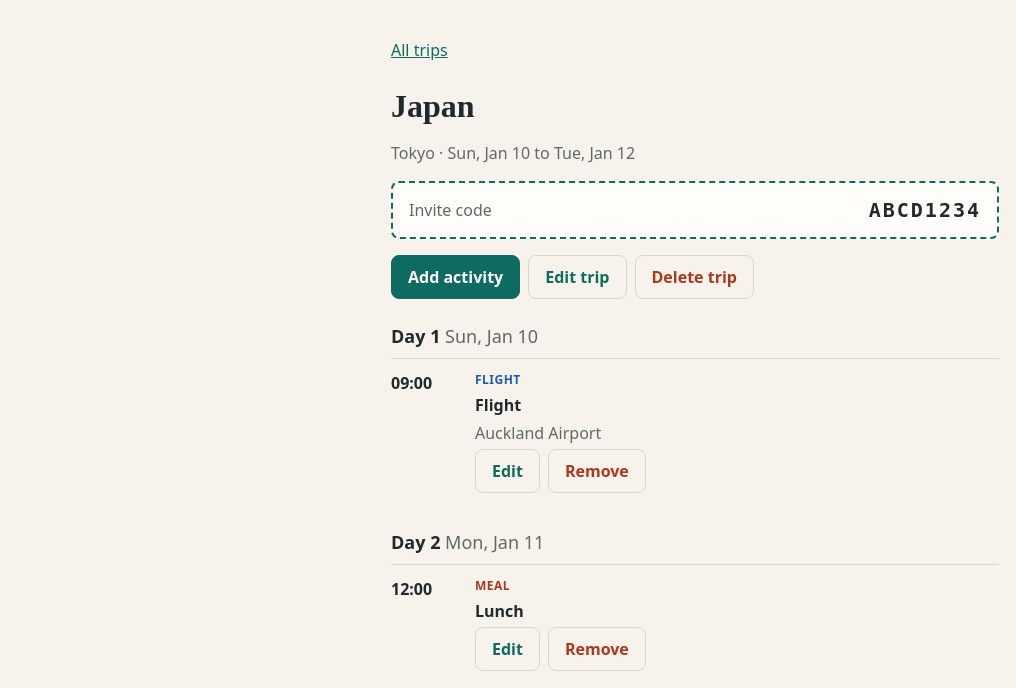
Test case: organiser › deletes the whole trip and goes back to the trips list
The width and height of the screenshot is (1016, 688).
Expected: the heading "Flight" is shown, [475,393,521,417]
Click the button "Delete trip" at (694, 277), box [634,255,754,299]
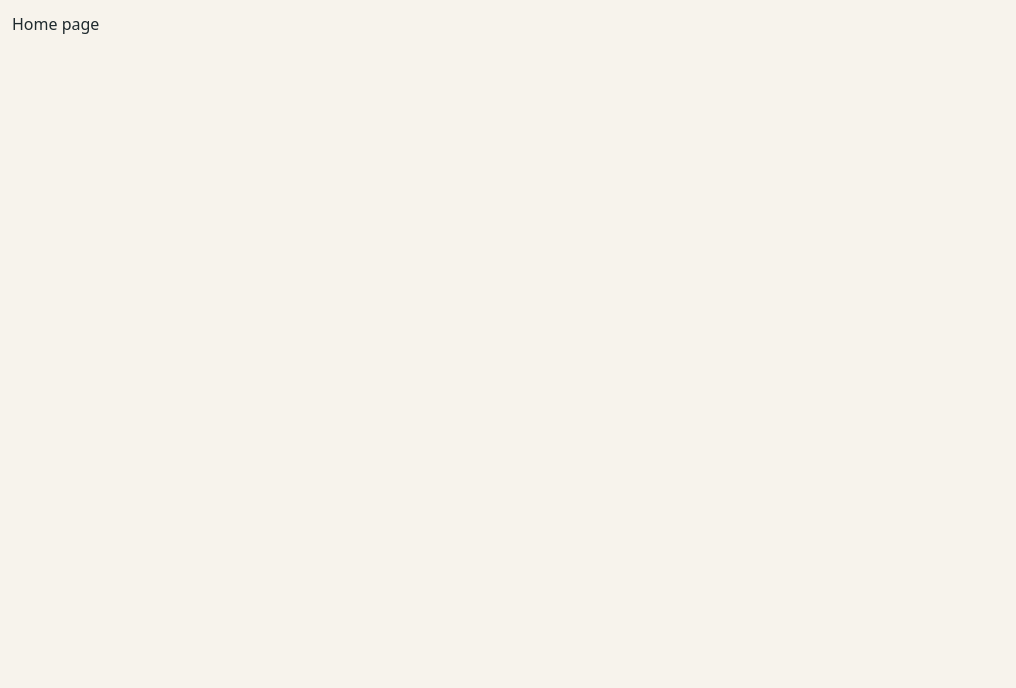
Now the text "Home page" is shown, box [12,13,99,35]
